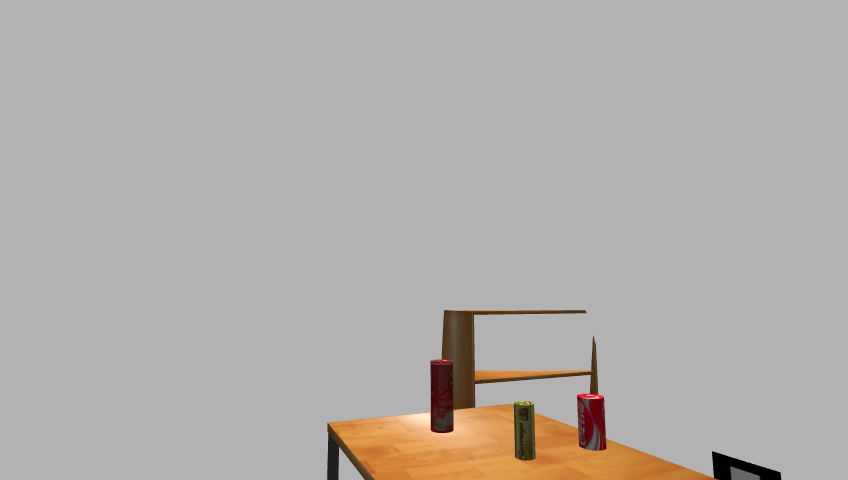aruco marker: (707, 451, 787, 480)
biscuits pack: (513, 401, 536, 462)
bookshelf: (435, 304, 592, 477)
coke can: (574, 394, 606, 452)
dinner table: (320, 409, 736, 480)
pringles can: (428, 359, 455, 434)
